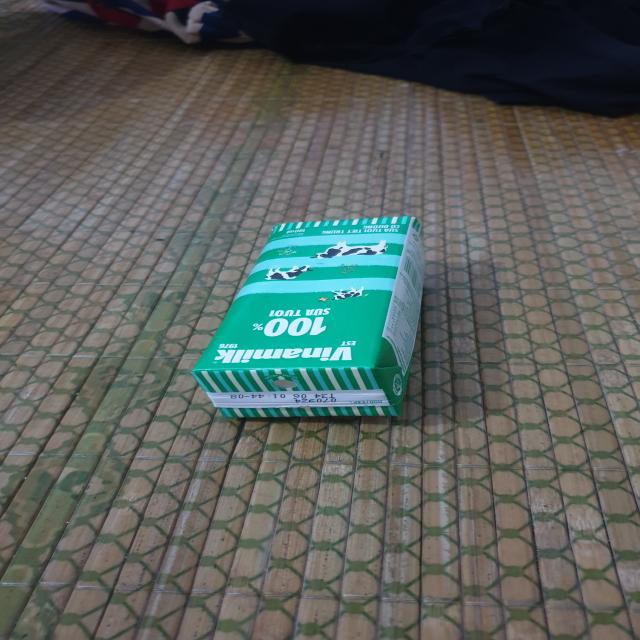Vina: (199, 203, 422, 415)
